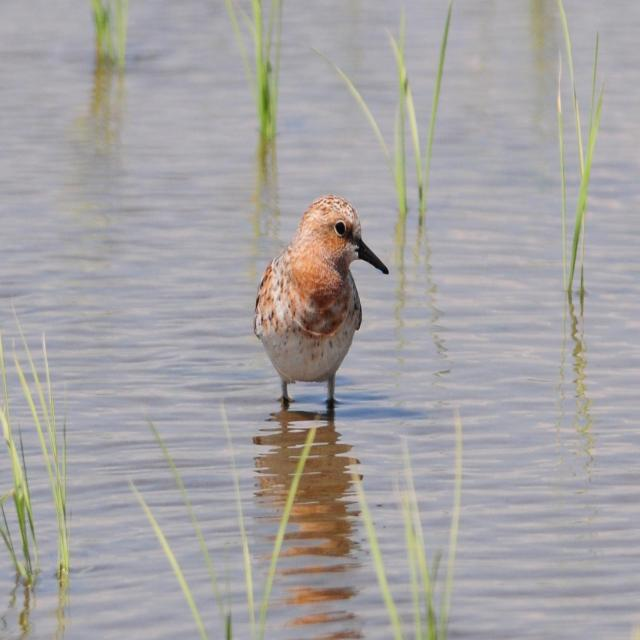bird: (249, 196, 389, 437)
